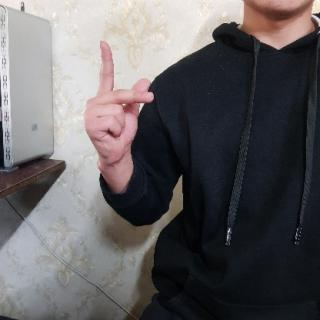DHAA: (81, 37, 157, 171)
